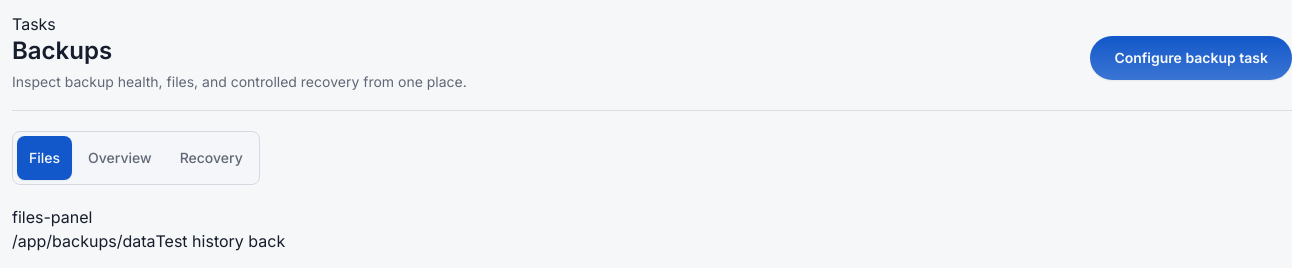
Test: BackupsPage › reaches Tasks in one click from the backup index
Expected: the text "files-panel" is shown, [12,207,92,227]
Expected: the text with test id "backups-location" reads "/app/backups/data", [12,231,156,251]
Click the link "Tasks" at (34,24), box [12,14,56,34]
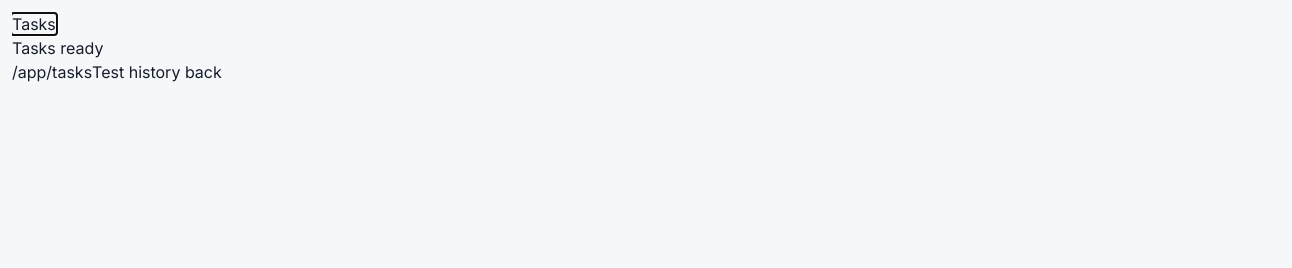
Expected: the text "Tasks ready" is shown, [12,38,103,58]
Expected: the text with test id "backups-location" reads "/app/tasks", [12,62,92,82]
